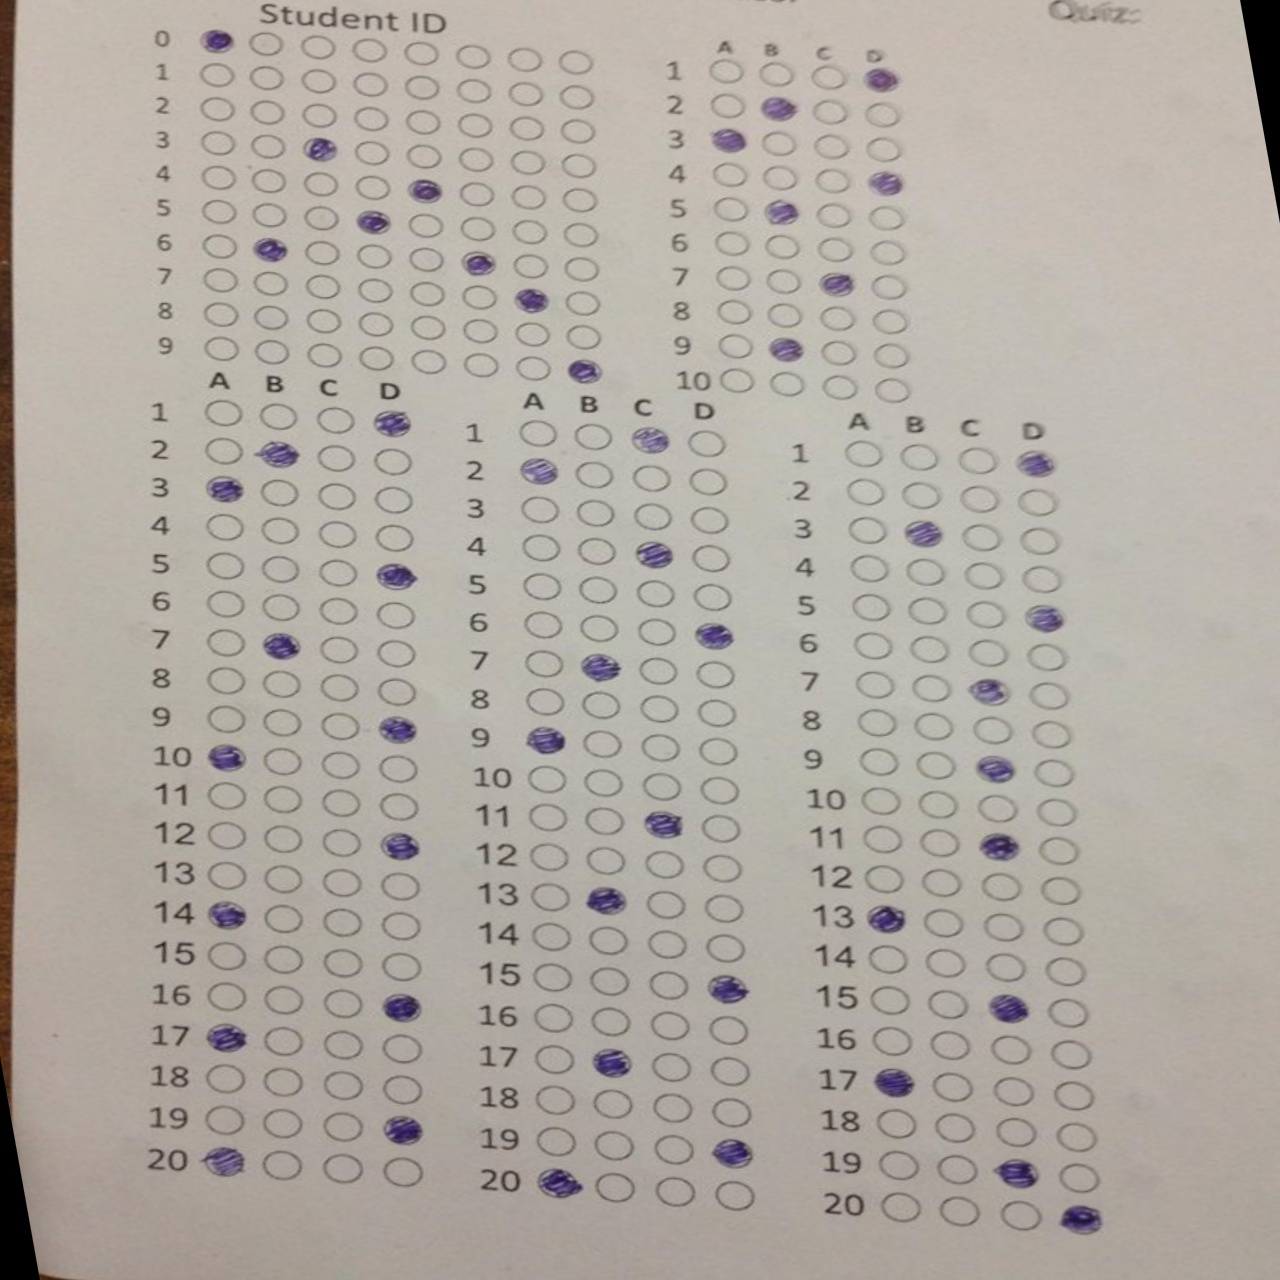not-c: (343, 33, 396, 66), (709, 1094, 755, 1131), (686, 467, 736, 501), (703, 931, 753, 965), (377, 908, 425, 942), (318, 788, 369, 819), (373, 755, 425, 785), (570, 496, 620, 527), (648, 1133, 699, 1165), (988, 1036, 1039, 1068), (552, 45, 599, 79), (918, 906, 969, 937), (922, 989, 974, 1020), (573, 418, 618, 454), (314, 481, 363, 512), (683, 428, 733, 459), (516, 570, 565, 601), (954, 520, 1003, 552), (978, 871, 1027, 903), (1047, 1041, 1096, 1073), (870, 1151, 922, 1180), (320, 948, 367, 981), (259, 1107, 306, 1139), (321, 1111, 368, 1144), (859, 823, 906, 856), (261, 1064, 305, 1099), (450, 75, 499, 105), (321, 1153, 370, 1184), (980, 912, 1029, 942), (295, 32, 342, 63), (258, 667, 305, 699), (379, 871, 425, 903), (261, 983, 308, 1015), (381, 1157, 428, 1189), (1039, 836, 1085, 867), (644, 971, 694, 1000), (840, 516, 891, 545), (397, 72, 445, 102), (313, 406, 361, 436), (254, 516, 302, 546), (315, 558, 363, 588), (316, 674, 365, 704), (527, 961, 576, 992), (956, 484, 1005, 515), (901, 558, 949, 588), (1040, 876, 1088, 906), (1040, 956, 1088, 987), (1044, 999, 1092, 1029), (380, 949, 424, 982), (557, 254, 608, 282), (857, 866, 908, 894), (314, 595, 360, 627), (260, 863, 306, 894), (318, 751, 367, 781), (704, 1016, 754, 1046), (990, 1119, 1040, 1149), (692, 581, 734, 615), (199, 397, 246, 428), (372, 524, 418, 554), (690, 545, 737, 576), (1015, 486, 1062, 517), (870, 1028, 917, 1058), (992, 1076, 1039, 1107), (532, 1083, 576, 1116), (593, 1129, 636, 1162), (1051, 1080, 1095, 1112), (314, 829, 365, 857), (648, 1178, 699, 1206), (202, 983, 250, 1013), (321, 990, 369, 1020), (260, 1150, 308, 1179), (581, 846, 629, 876), (527, 881, 576, 911), (699, 893, 747, 922), (503, 43, 549, 74), (400, 105, 445, 136), (506, 184, 552, 215), (557, 184, 602, 215), (200, 627, 246, 658), (322, 908, 368, 939), (203, 1103, 248, 1133), (577, 612, 622, 642), (894, 442, 940, 472), (1032, 757, 1077, 788), (1058, 1163, 1104, 1193), (515, 496, 566, 523), (203, 862, 252, 890), (200, 1064, 250, 1092), (512, 417, 561, 445), (576, 536, 618, 568), (205, 704, 252, 734), (319, 712, 366, 741), (1017, 564, 1064, 593), (965, 638, 1012, 667), (974, 792, 1021, 822), (1040, 915, 1087, 945), (922, 947, 969, 976), (593, 1089, 636, 1121), (584, 926, 634, 953), (701, 93, 751, 120), (245, 29, 290, 60), (554, 82, 599, 113), (195, 60, 239, 90), (504, 113, 549, 143), (200, 436, 245, 467), (204, 666, 248, 696), (322, 1029, 367, 1060), (954, 445, 999, 476), (558, 220, 606, 248), (318, 1071, 366, 1099), (377, 1076, 425, 1104), (580, 769, 628, 797), (964, 600, 1012, 628), (905, 635, 953, 663), (452, 110, 498, 139), (261, 784, 307, 813), (700, 812, 745, 842), (806, 96, 852, 125), (1054, 1124, 1099, 1153), (373, 794, 422, 821), (452, 40, 496, 70), (382, 1033, 425, 1063), (642, 850, 686, 880), (702, 853, 745, 884), (535, 1044, 578, 1075), (372, 640, 418, 668), (203, 942, 250, 971), (869, 377, 915, 406), (372, 448, 416, 477), (204, 513, 248, 543), (263, 748, 307, 777), (263, 825, 307, 855), (321, 866, 366, 896), (687, 505, 731, 535), (635, 693, 680, 722), (696, 700, 741, 729), (531, 921, 576, 951), (649, 1012, 694, 1041), (911, 712, 955, 741), (576, 577, 624, 604), (579, 731, 627, 758), (911, 753, 959, 779), (504, 79, 546, 109), (196, 266, 241, 294), (258, 479, 304, 508), (258, 554, 300, 585), (203, 590, 245, 620), (257, 594, 302, 622), (373, 679, 418, 707), (263, 1024, 305, 1055), (651, 1092, 696, 1121), (937, 1155, 979, 1185), (456, 178, 499, 207), (636, 617, 680, 646), (651, 1051, 694, 1081), (1030, 722, 1074, 751), (860, 785, 904, 815), (930, 1030, 973, 1060), (939, 1194, 982, 1224), (873, 1194, 922, 1220), (590, 1008, 636, 1035), (713, 1183, 760, 1210), (806, 132, 853, 159), (967, 719, 1014, 745), (245, 64, 290, 93), (256, 402, 300, 430), (263, 904, 307, 932), (632, 505, 676, 533), (697, 737, 742, 765), (999, 1201, 1043, 1230), (591, 966, 632, 996), (570, 462, 618, 488), (628, 467, 676, 492), (522, 805, 570, 831), (593, 1175, 641, 1200), (843, 557, 891, 583), (372, 485, 414, 515), (318, 635, 360, 665), (263, 945, 305, 974), (700, 777, 742, 806), (298, 204, 343, 231), (205, 782, 251, 809), (633, 581, 679, 608), (584, 808, 629, 835), (645, 893, 690, 920), (530, 1005, 576, 1032), (1034, 799, 1080, 826), (919, 869, 965, 896), (863, 945, 908, 972), (399, 40, 442, 68), (350, 70, 394, 98), (197, 95, 240, 123), (297, 101, 340, 129), (348, 104, 392, 132), (352, 141, 395, 169), (250, 166, 293, 195), (248, 200, 292, 229), (315, 520, 359, 549), (647, 930, 690, 958), (195, 200, 241, 226), (811, 234, 858, 260), (300, 272, 345, 299), (354, 275, 399, 302), (373, 602, 417, 629), (261, 709, 306, 736), (708, 1058, 753, 1085), (904, 595, 948, 622), (935, 1115, 980, 1142), (250, 302, 292, 331), (206, 821, 248, 849), (964, 561, 1006, 590), (1024, 642, 1067, 670), (917, 791, 959, 819), (920, 829, 962, 857), (932, 1073, 974, 1101), (350, 243, 396, 268), (853, 712, 899, 737), (245, 98, 288, 125), (248, 132, 292, 159), (350, 173, 394, 200), (511, 252, 554, 279), (406, 280, 449, 307), (579, 692, 622, 719), (525, 765, 568, 792), (537, 1129, 580, 1156), (708, 57, 751, 84), (756, 59, 799, 86), (870, 309, 913, 336), (842, 440, 885, 467), (857, 750, 900, 777), (205, 551, 245, 580), (558, 151, 599, 179), (250, 268, 291, 297), (459, 282, 501, 311), (304, 342, 345, 370), (692, 663, 738, 688), (712, 195, 753, 223), (1021, 527, 1062, 556), (849, 634, 896, 659), (522, 536, 566, 561), (525, 689, 570, 715), (639, 735, 683, 761), (527, 846, 572, 872), (983, 954, 1028, 980), (404, 143, 447, 170), (403, 211, 445, 238), (461, 316, 503, 343), (524, 612, 566, 639), (821, 374, 863, 401), (865, 101, 904, 130), (910, 676, 955, 701), (871, 986, 911, 1014), (407, 348, 450, 374), (765, 370, 809, 396), (855, 673, 898, 699), (297, 67, 338, 94), (458, 215, 499, 241), (358, 311, 399, 338), (641, 772, 682, 799), (846, 476, 887, 503), (876, 1112, 917, 1139), (199, 338, 244, 362), (898, 483, 942, 508), (197, 129, 236, 157), (302, 241, 345, 267), (407, 246, 449, 272), (564, 325, 606, 350), (315, 444, 358, 470), (639, 658, 681, 683), (757, 132, 799, 158), (866, 206, 908, 232), (866, 241, 908, 267), (817, 340, 859, 366), (302, 170, 342, 197), (512, 322, 552, 349), (196, 234, 241, 258), (511, 356, 554, 381), (811, 67, 855, 91), (200, 302, 241, 328), (869, 275, 910, 301), (198, 164, 236, 192), (847, 595, 892, 619), (563, 290, 601, 316), (712, 265, 754, 290), (813, 306, 856, 331), (456, 147, 496, 172), (409, 315, 449, 341), (713, 230, 753, 256), (764, 234, 804, 260), (871, 343, 911, 369), (1029, 683, 1069, 709), (709, 165, 751, 189), (812, 169, 855, 192), (509, 219, 549, 244), (304, 308, 343, 333), (253, 340, 293, 365), (813, 204, 853, 229), (713, 299, 753, 324), (716, 333, 756, 358), (526, 649, 563, 676), (765, 268, 802, 295), (765, 302, 804, 327), (556, 120, 598, 142), (356, 348, 399, 370), (508, 150, 547, 173), (862, 138, 903, 161), (717, 367, 754, 392), (459, 355, 499, 377), (760, 165, 799, 188)
taken-c: (988, 1155, 1046, 1194), (372, 828, 430, 865), (1053, 1201, 1112, 1238), (531, 1164, 588, 1201), (196, 1144, 252, 1182), (897, 515, 951, 552), (200, 1020, 253, 1056), (520, 722, 573, 758), (578, 884, 634, 918), (967, 753, 1023, 787), (980, 990, 1036, 1024), (376, 1110, 427, 1148), (254, 435, 306, 471), (200, 738, 253, 774), (369, 558, 423, 592), (971, 830, 1024, 864), (629, 537, 681, 572), (365, 407, 418, 440), (640, 806, 692, 840), (704, 123, 756, 157), (869, 1065, 920, 1099), (197, 471, 250, 504), (373, 713, 425, 745), (588, 1046, 638, 1081), (375, 990, 425, 1024), (709, 1136, 760, 1170), (513, 454, 565, 486), (625, 423, 674, 457), (703, 972, 754, 1005), (1010, 448, 1061, 479), (1017, 602, 1068, 634), (764, 332, 811, 366), (758, 195, 806, 227), (862, 903, 910, 935), (257, 631, 306, 662), (508, 286, 558, 316), (964, 676, 1013, 707), (690, 620, 737, 652), (812, 270, 863, 299), (561, 356, 606, 389), (204, 898, 248, 931), (195, 26, 240, 57), (574, 653, 625, 681), (456, 248, 501, 279), (863, 169, 908, 198), (297, 132, 340, 163), (755, 96, 803, 123), (352, 207, 395, 237), (250, 234, 290, 264), (860, 66, 903, 93), (403, 178, 445, 204)
